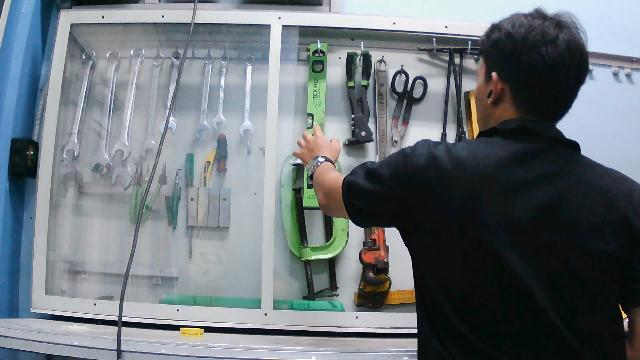water_pass: (300, 39, 330, 210)
